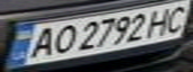2: (75, 19, 103, 52), (127, 10, 154, 43)
7: (97, 16, 118, 48)
9: (112, 13, 136, 46)
A: (21, 25, 60, 60)
C: (157, 2, 193, 34)
H: (142, 6, 178, 38)
O: (48, 22, 78, 56)
